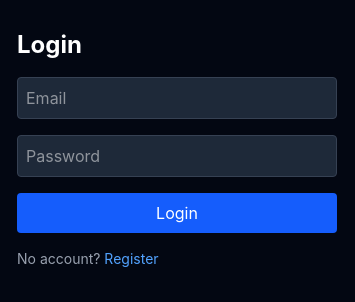
LoginPage › shows an error message when login fails
Type "a@b.com" into the field with placeholder "Email" at coordinates (177, 98), box [17, 77, 337, 119]
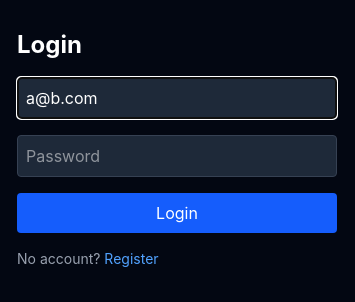
Type "wrong" into the password field with placeholder "Password" at coordinates (177, 156), box [17, 135, 337, 177]
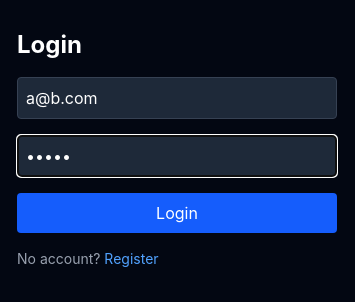
Click the button "Login" at coordinates (177, 213), box [17, 193, 337, 233]
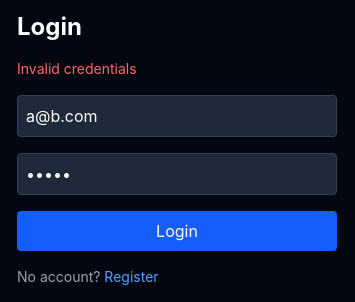
Expected: the text "Invalid credentials" is shown, [17, 60, 137, 77]
